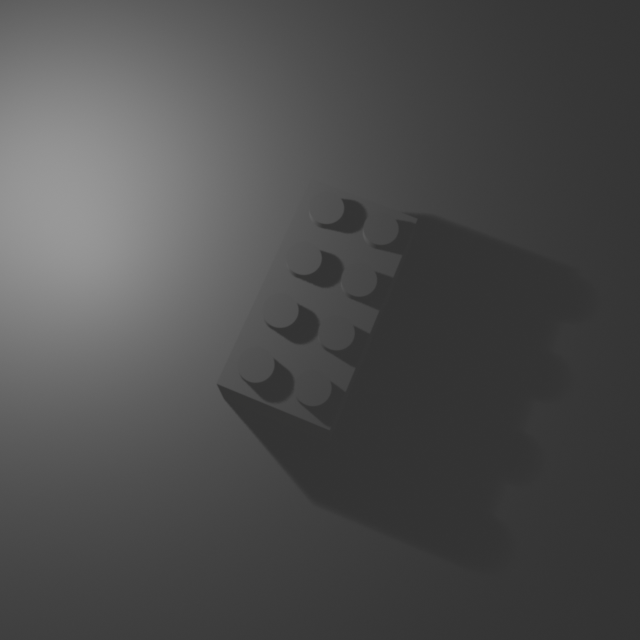lego_2x4: (215, 173, 419, 443)
